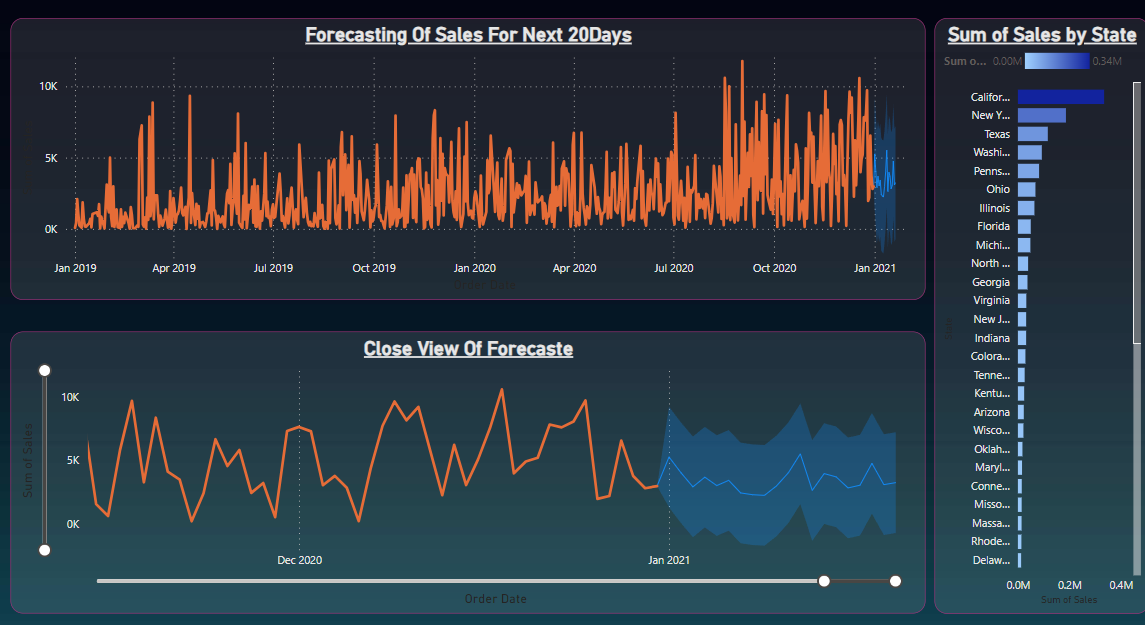

What the dashboard file says about the page in this screenshot:
{"tool":"powerbi","page":{"name":"Page 2","canvas":[1280,720],"ordinal":1},"visuals":[{"type":"lineChart","title":"Forecasting Of Sales For Next 20Days","fields":{"Category":["SuperStore_Sales_Dataset.Order Date"],"Y":["Sum(SuperStore_Sales_Dataset.Sales)"]},"box":[15,26.7,1016.7,313.3],"z":0},{"type":"lineChart","title":"Close View Of Forecaste","fields":{"Category":["SuperStore_Sales_Dataset.Order Date"],"Y":["Sum(SuperStore_Sales_Dataset.Sales)"]},"box":[15,375,1016.7,313.3],"z":1000},{"type":"clusteredBarChart","fields":{"Y":["Sum(SuperStore_Sales_Dataset.Sales)"],"Category":["SuperStore_Sales_Dataset.State"]},"box":[1041.7,26.7,238.3,661.7],"z":2000}]}

Visuals, with their boxes on the page's 1280x720 design canvas (x1, y1, x2, y2). These are canvas units, not pixel positions in the 1145x625 screenshot, which may show the page scaled, cropped or inside an application window:
"Forecasting Of Sales For Next 20Days" lineChart: Rect(15, 27, 1032, 340)
"Close View Of Forecaste" lineChart: Rect(15, 375, 1032, 688)
clusteredBarChart - Sum(SuperStore_Sales_Dataset.Sales) x SuperStore_Sales_Dataset.State: Rect(1042, 27, 1280, 688)
